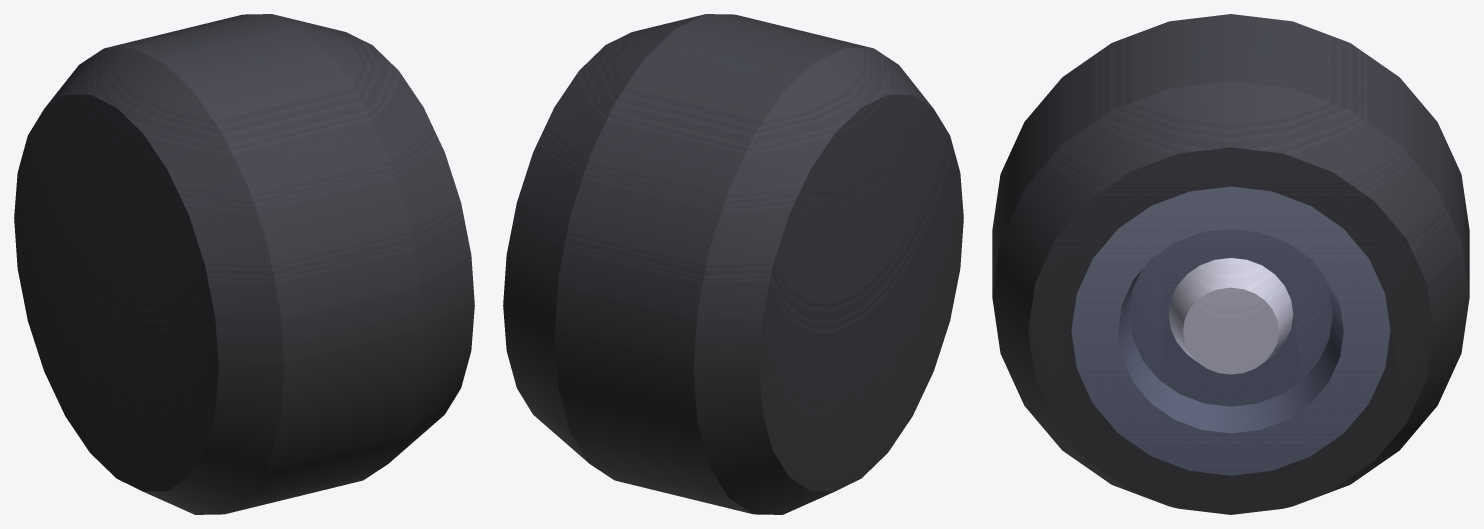
File: wheel-tractor-dark-back.glb
3 views of the same model, side by side, from view 1: azimuth 30°, elevation 25°; view 2: azimuth 150°, elevation 25°; view 3: azimuth 270°, elevation 25° (orthographic).
Parts seen in each view (by area): view 1: wheel-tractor-dark-back; view 2: wheel-tractor-dark-back; view 3: wheel-tractor-dark-back.
Part boxes in pixels (box(x1,y1,x2,y2)): wheel-tractor-dark-back: box(14, 14, 474, 514); wheel-tractor-dark-back: box(503, 14, 963, 514); wheel-tractor-dark-back: box(992, 14, 1469, 514).
Size of the model in its own units: 0.5376 by 0.8752 by 0.8752.
1 material, 1 textured.
